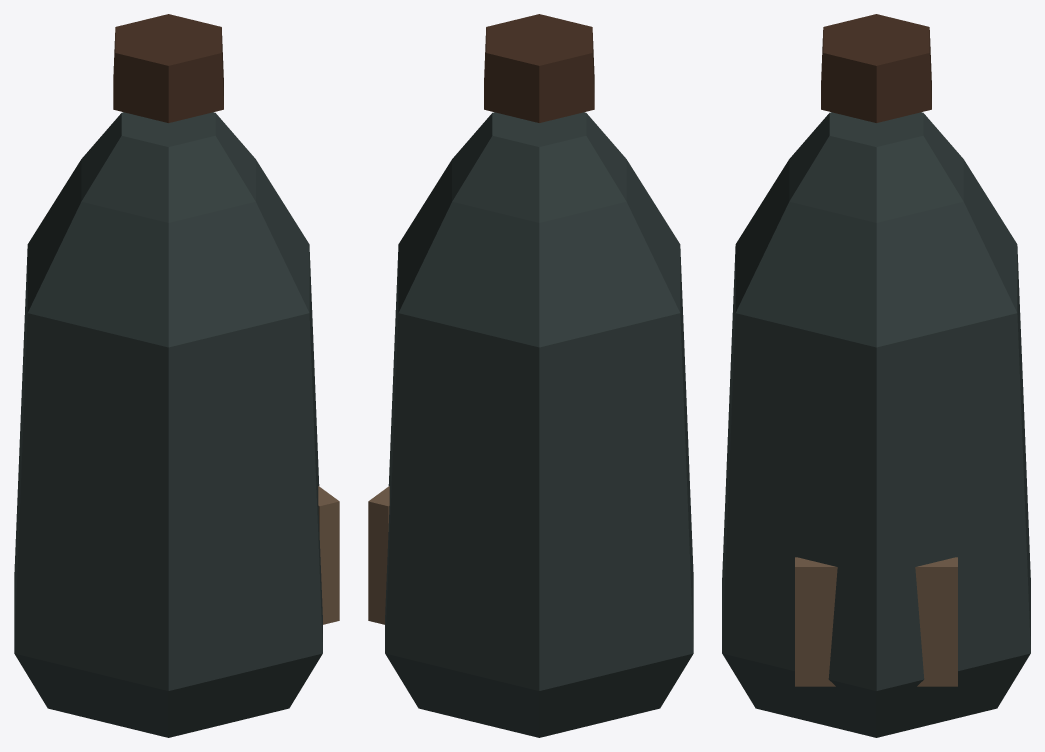
Rendered from dry_ether.obj.
The picture shows the model from 3 angles, left to right: view 1: azimuth 30°, elevation 25°; view 2: azimuth 150°, elevation 25°; view 3: azimuth 270°, elevation 25°; orthographic projection.
Parts seen in each view (by area): view 1: dry_ether; view 2: dry_ether; view 3: dry_ether.
Boxes of the visible parts, x1=… form: dry_ether: x1=14, y1=14, x2=339, y2=737; dry_ether: x1=368, y1=14, x2=693, y2=737; dry_ether: x1=722, y1=14, x2=1030, y2=737.
Bounding box in the file's own units: 0.92 × 1.82 × 0.7967.
